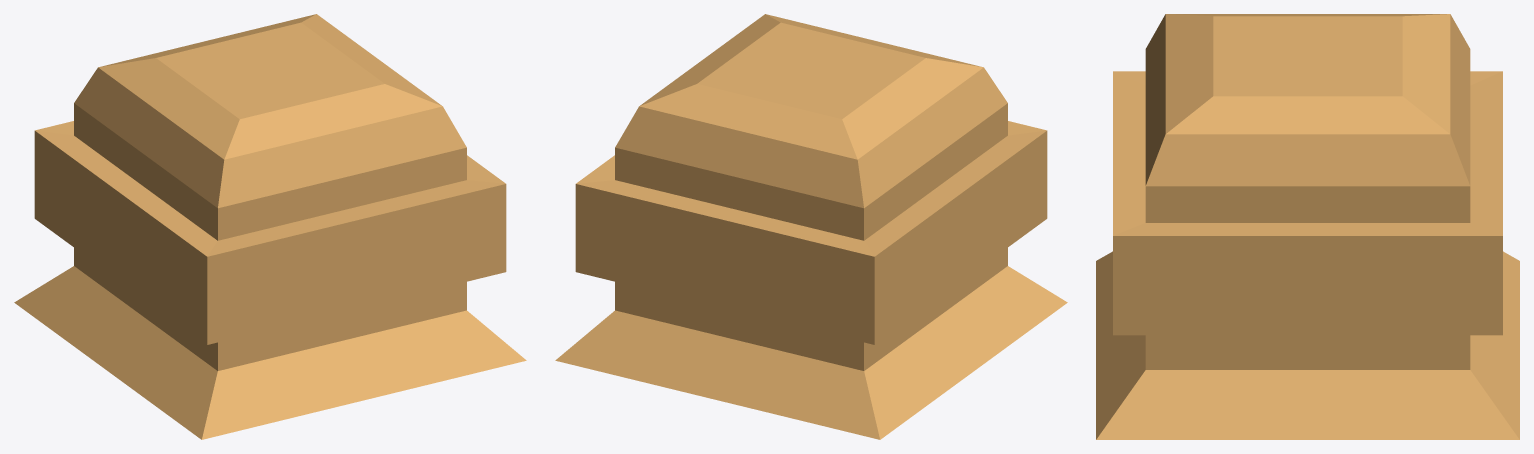
File: MuroCuadrado001.fbx
The picture shows the model from 3 angles, left to right: view 1: azimuth 30°, elevation 25°; view 2: azimuth 150°, elevation 25°; view 3: azimuth 270°, elevation 25°; orthographic projection. The views are drawn at different scales.
Visible parts, largest first — view 1: Cube.004; view 2: Cube.004; view 3: Cube.004.
Part boxes in pixels (bbox=[...]): Cube.004: bbox=[14, 14, 526, 439]; Cube.004: bbox=[555, 14, 1067, 439]; Cube.004: bbox=[1096, 14, 1519, 439].
Bounding box in the file's own units: 261 × 200 × 261.
